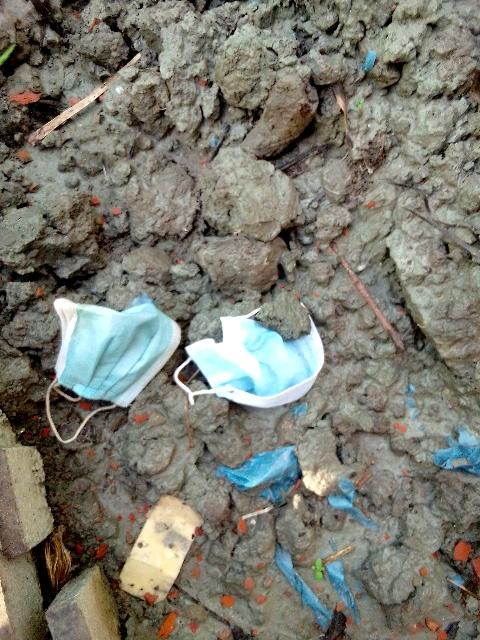mask: (47, 295, 182, 418), (192, 299, 331, 406)
